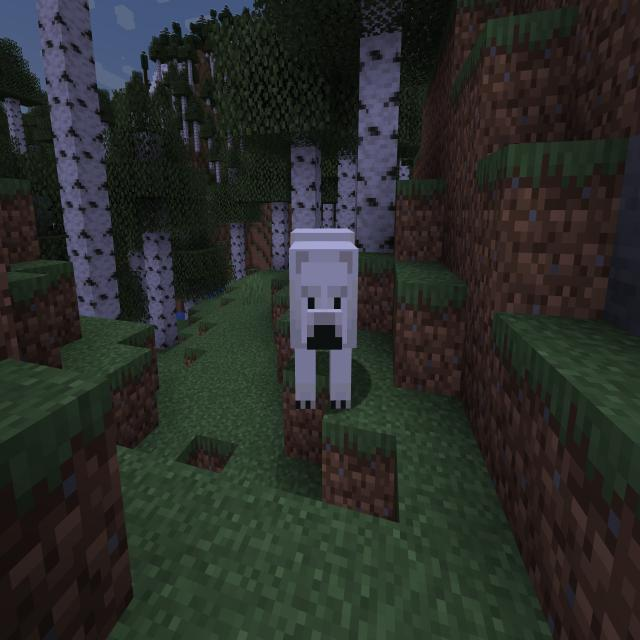Polar Bear: (290, 224, 360, 414)
